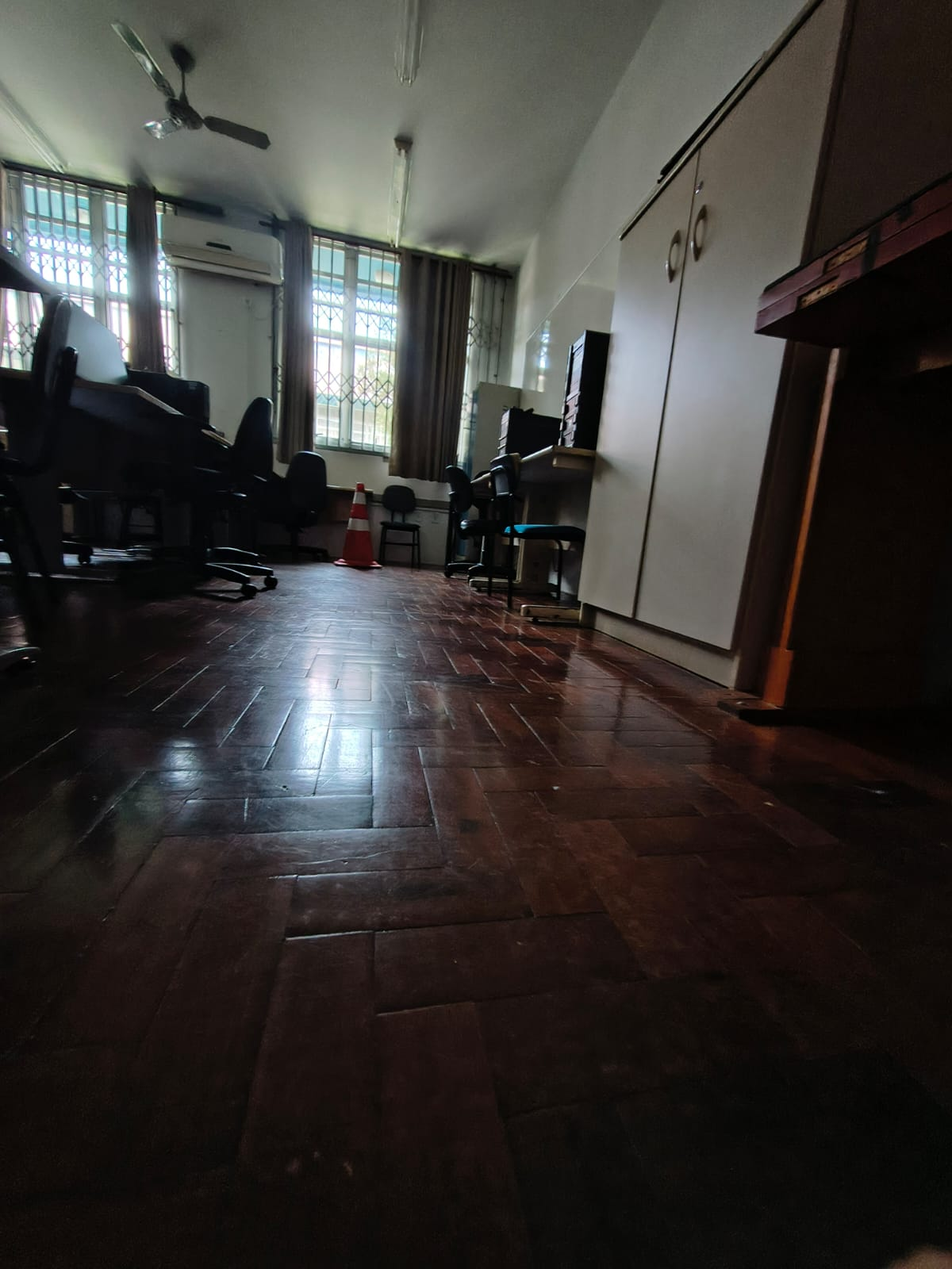cone: (336, 479, 383, 569)
